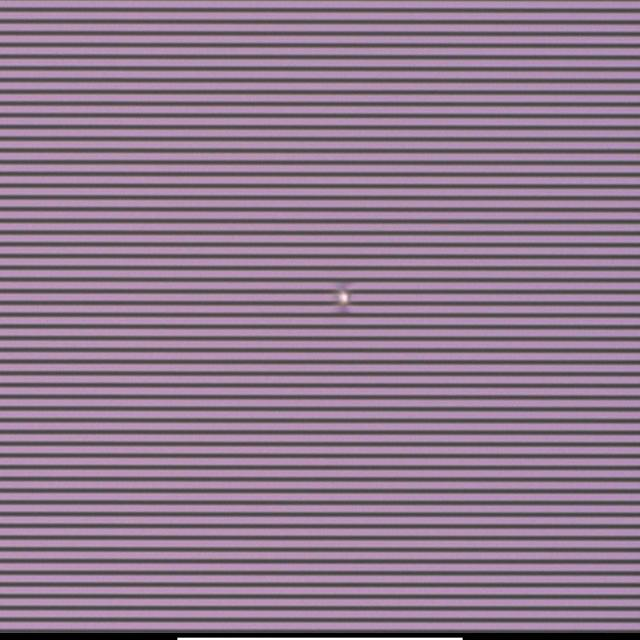nonvisual: (334, 283, 354, 310)
